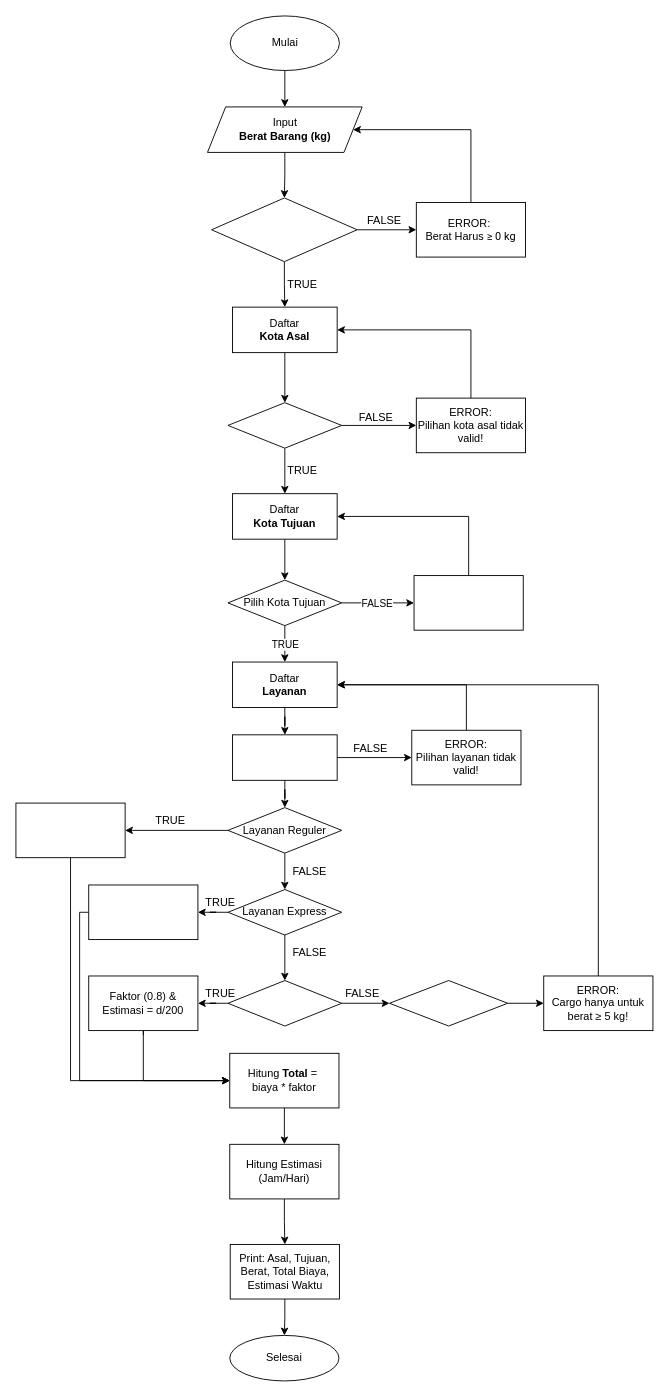
Some shapes in this 669 by 1397 pixel diagram are drawn without their labels. Here are the shapes that lost their labels. From the top down, the box of each, then its label:
(211, 197, 357, 262): Berat Barang > 0 kg
(227, 402, 342, 448): Pilih Kota Asal
(413, 575, 523, 630): ERROR: Pilihan kota tujuan tidak valid atau sama dengan kota asal
(232, 734, 337, 780): Input Pilihan Layanan
(15, 802, 125, 858): HITUNG: Faktor (1.0) & Estimasi = d/300
(88, 884, 198, 940): Faktor (1.5) & Estimasi = d/500
(227, 980, 342, 1026): Layanan Cargo
(389, 980, 508, 1026): Berat Barang < 5 kg
